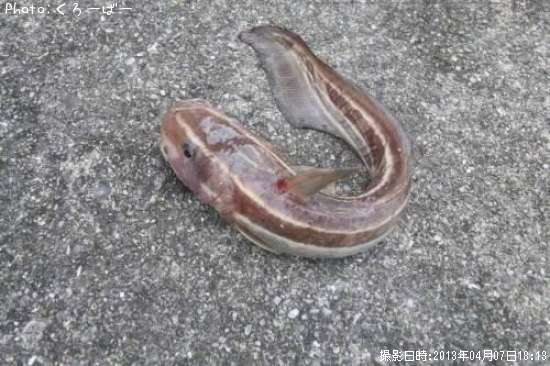gonzui: (137, 19, 433, 269)
